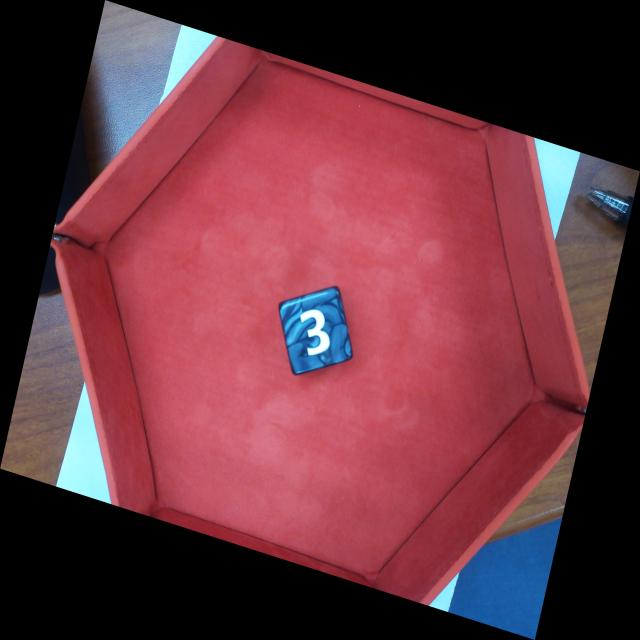dice: (278, 285, 355, 378)
